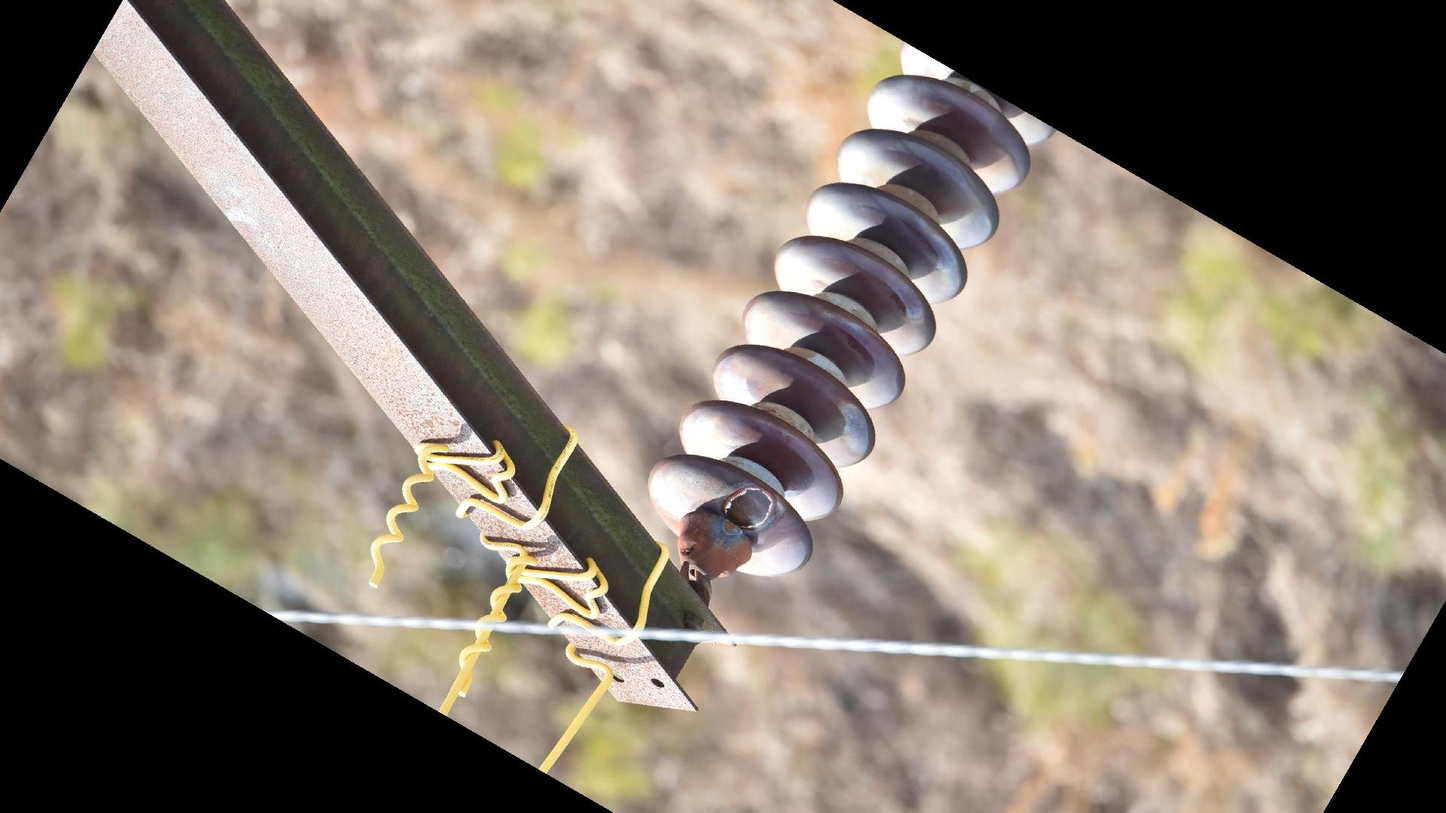insulator: (640, 37, 1059, 586)
insulator_flashover: (720, 485, 776, 533)
